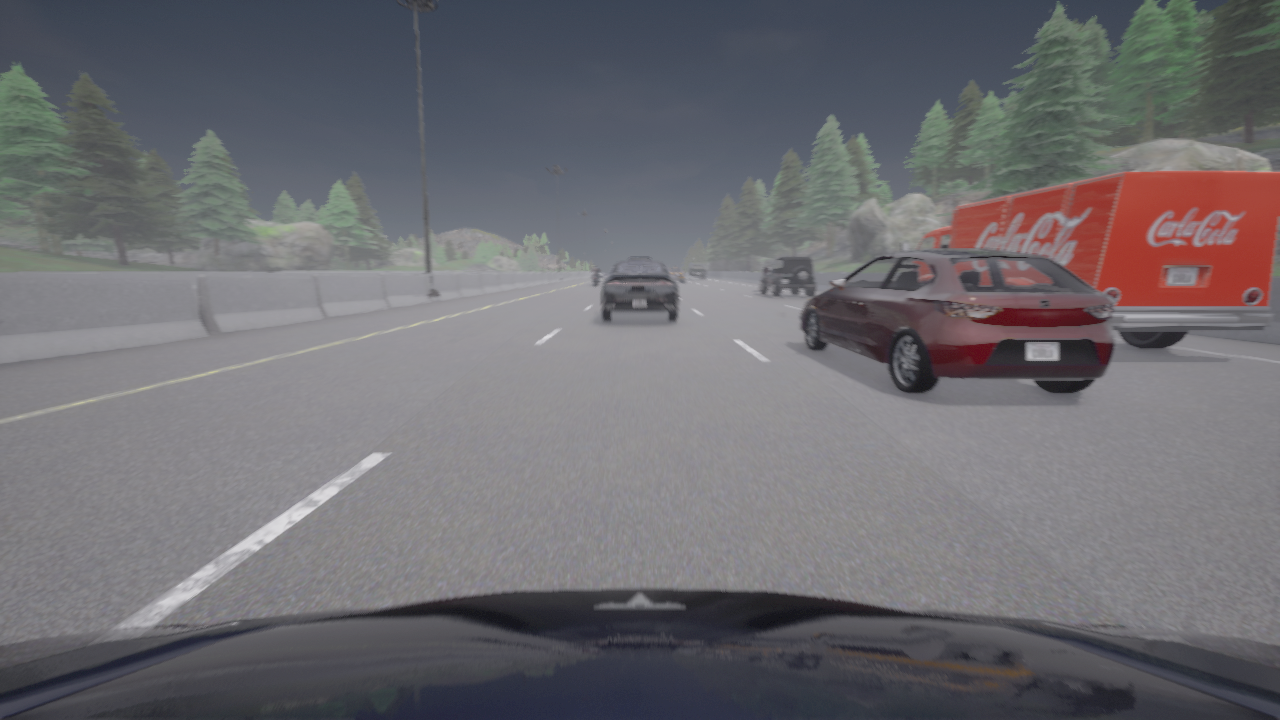cyclist: (0, 588, 1279, 719), (900, 171, 1279, 348), (800, 249, 1116, 394), (601, 260, 678, 322), (759, 256, 817, 297), (669, 266, 685, 282), (688, 265, 704, 274), (627, 257, 652, 260), (593, 275, 599, 285)
